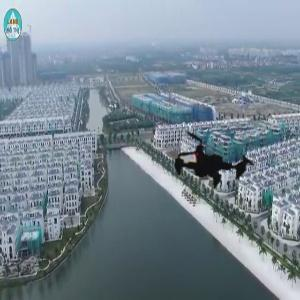drone: (154, 99, 274, 219)
